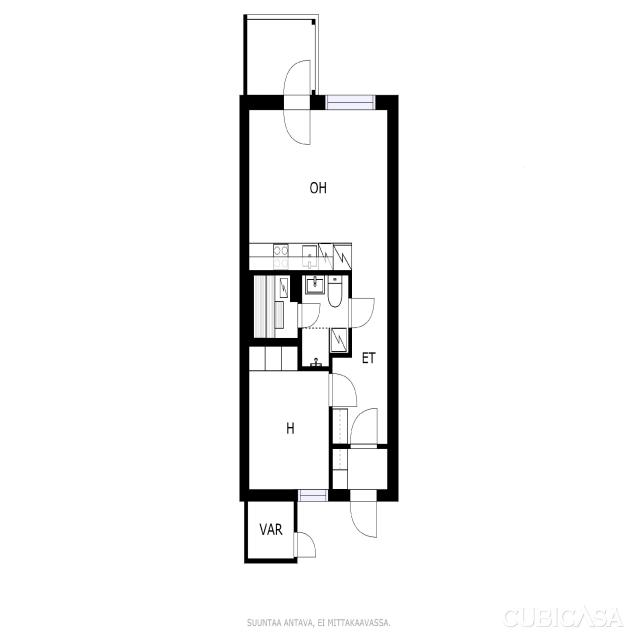door: (284, 60, 310, 110), (350, 489, 377, 537), (284, 95, 310, 144), (351, 408, 377, 449), (329, 373, 357, 406), (348, 298, 375, 328), (298, 303, 320, 328), (294, 532, 316, 557)
